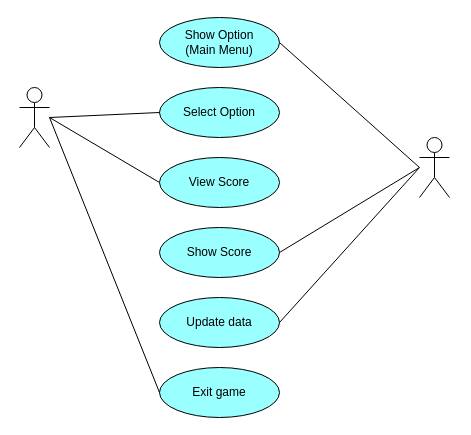
The diagram is 471 pixels wide and 435 high, and some of its shapes have lost their labels. The shapes that lost their labels are listed below. From the top down, each one's centre as x and y in pixels, then its label:
(x=34, y=117): Player
(x=434, y=167): System
